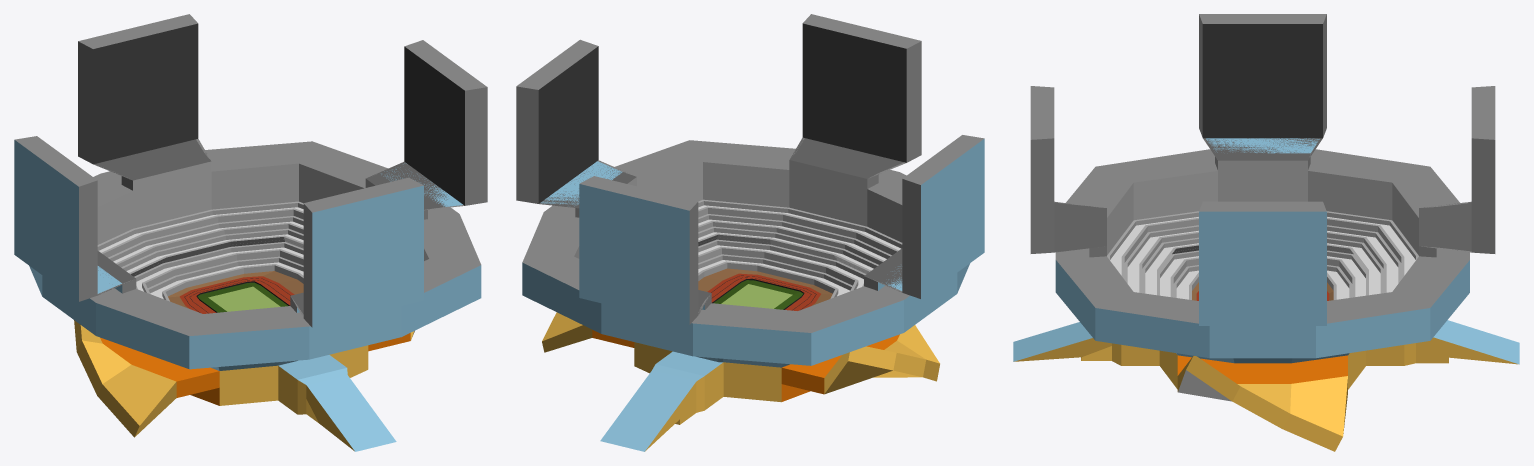
3 views of the same model, side by side, from view 1: azimuth 30°, elevation 25°; view 2: azimuth 150°, elevation 25°; view 3: azimuth 270°, elevation 25° (orthographic).
Visible parts, largest first — view 1: Racetrack stadium; view 2: Racetrack stadium; view 3: Racetrack stadium.
Part boxes in pixels (box(x1,y1,x2,y2)): Racetrack stadium: box(14, 14, 487, 451); Racetrack stadium: box(516, 14, 984, 451); Racetrack stadium: box(1013, 14, 1519, 451).
Size of the model in its own units: 5.5 by 3.35 by 5.95.
Materials: 1 (1 with a texture image).
